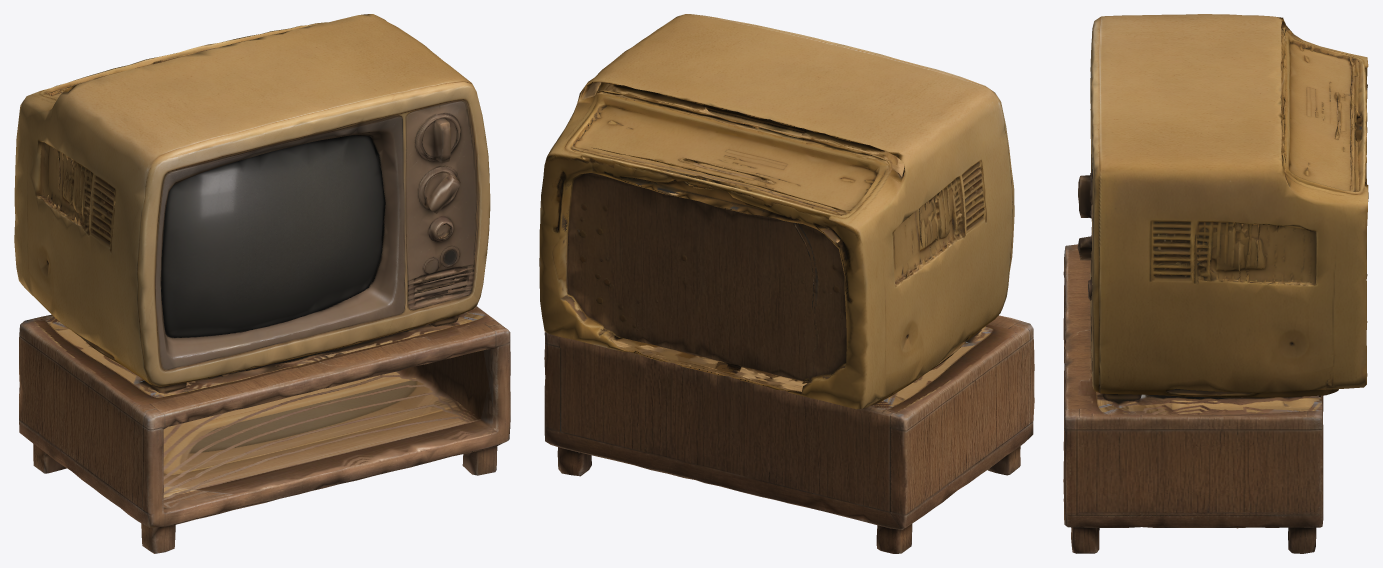
Rendered from VAR_Yellow_CRTTV_Stand.fbx.
3 renders of one model, left to right at view 1: azimuth 30°, elevation 25°; view 2: azimuth 150°, elevation 25°; view 3: azimuth 270°, elevation 25°, orthographic.
Visible parts, largest first — view 1: texture_mapping; view 2: texture_mapping; view 3: texture_mapping.
Boxes of the visible parts, x1,y1,x2,y2 form: texture_mapping: (14, 14, 510, 553); texture_mapping: (539, 14, 1034, 553); texture_mapping: (1063, 14, 1368, 553).
Bounding box in the file's own units: 0.9653 × 0.7085 × 0.9969.
Materials: 1 (1 with a texture image).
